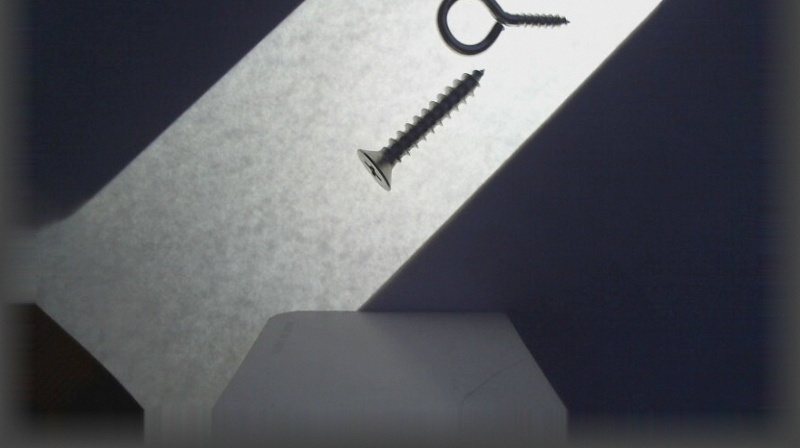O001: (434, 0, 570, 55)
S001: (354, 65, 486, 193)
